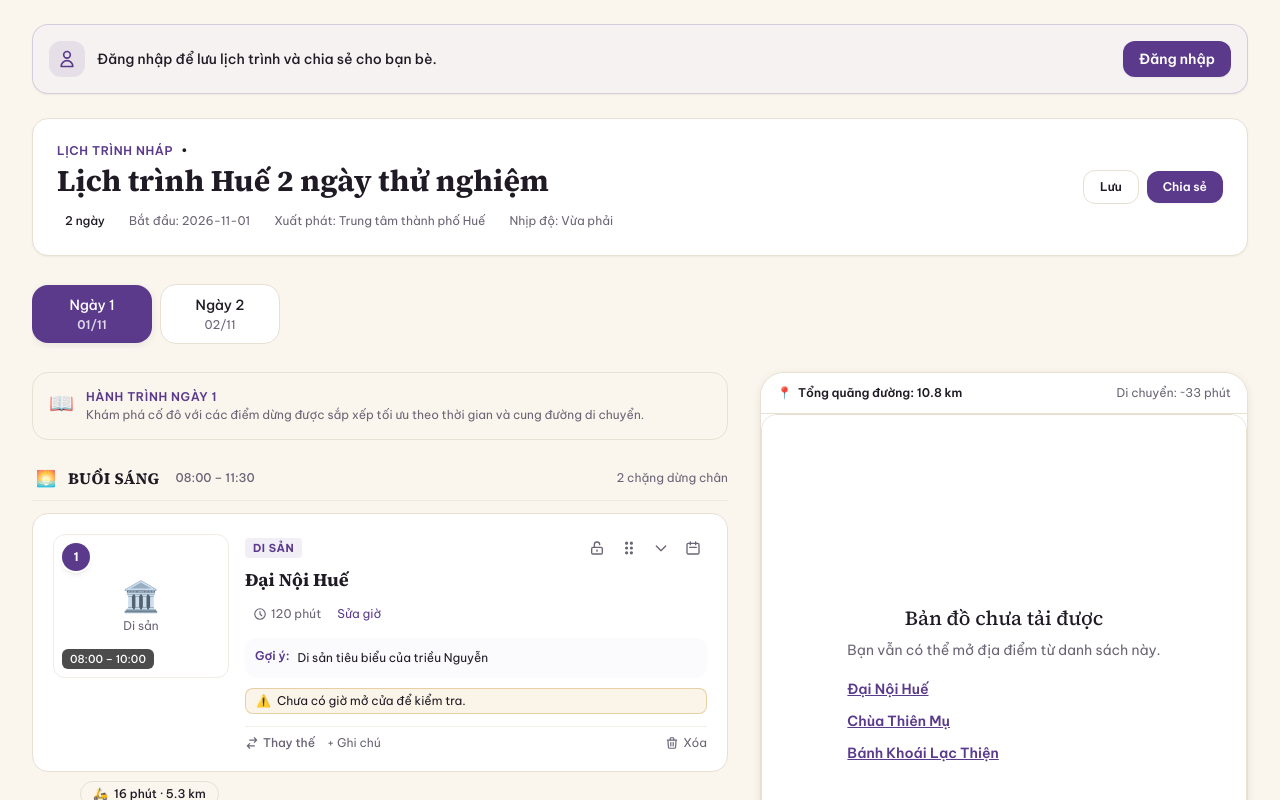
TripEditorPage › opens login prompt modal when clicking Chia sẻ
The image size is (1280, 800).
Click the button "Chia sẻ" at point(1185, 187), box x1=1147 y1=171 x2=1223 y2=203
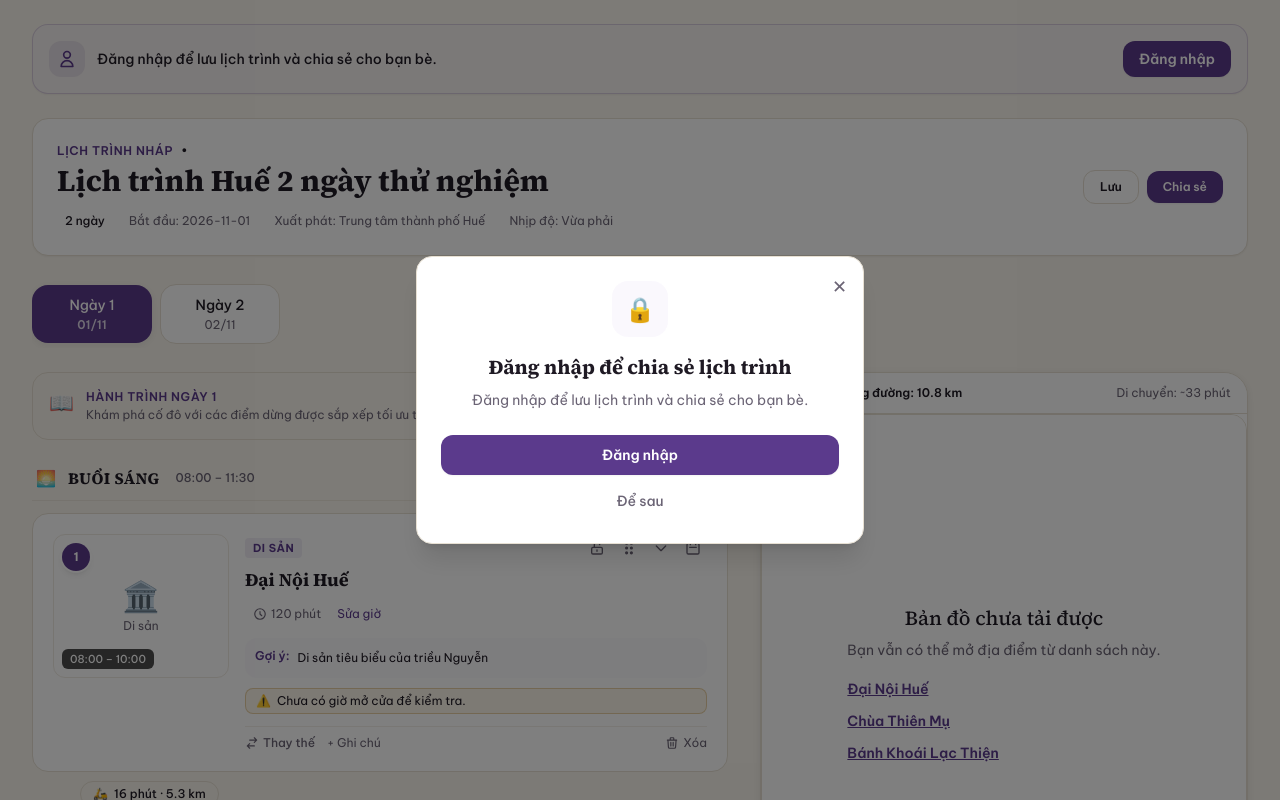
Check: the text "Đăng nhập để chia sẻ lịch trình" is shown, box x1=488 y1=353 x2=792 y2=381
